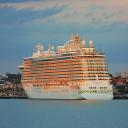cruises: (19, 33, 117, 101)
